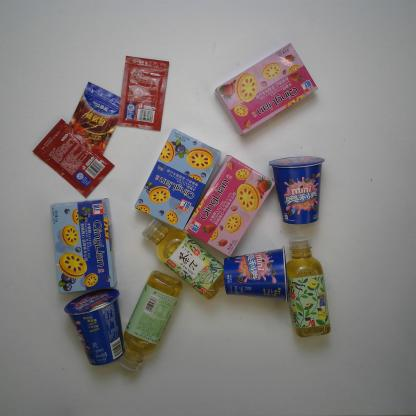Dessert: (212, 42, 320, 136), (183, 149, 276, 257), (132, 126, 222, 232), (49, 196, 118, 293), (63, 286, 127, 369), (270, 153, 326, 226), (222, 245, 293, 300)
Drink: (140, 217, 231, 301), (119, 268, 183, 372), (285, 232, 332, 338)
Seasoner: (33, 118, 116, 198), (63, 81, 127, 164), (118, 53, 170, 132)
